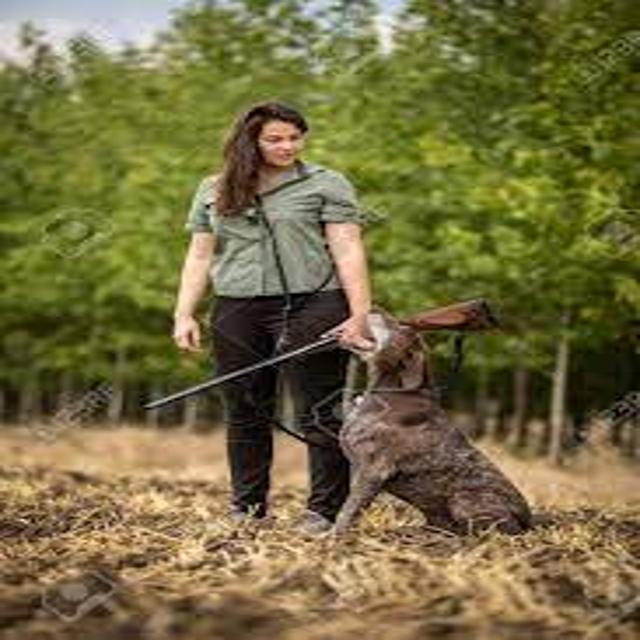dog: (287, 287, 565, 577)
gun: (110, 281, 537, 435)
poacher: (143, 82, 416, 573)
